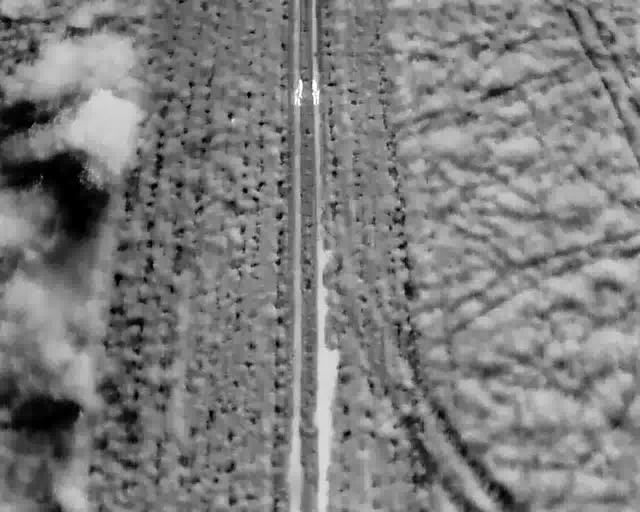person: (292, 74, 304, 106), (310, 72, 321, 104)
